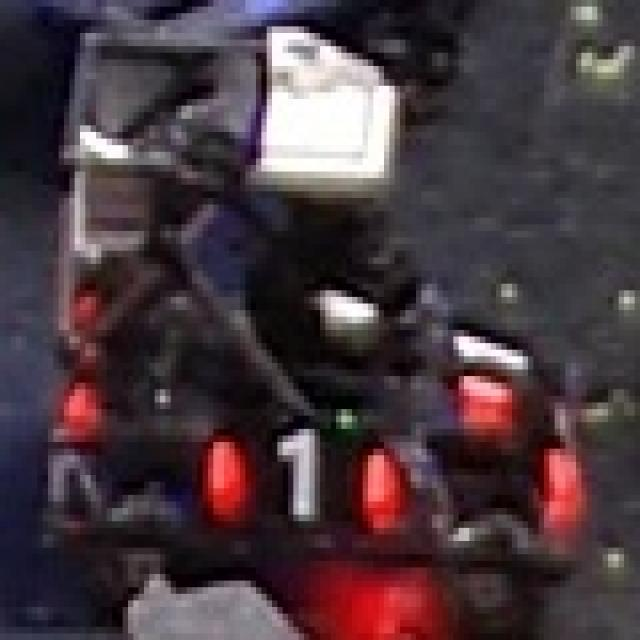R1: (176, 416, 395, 541), (427, 284, 544, 422)
